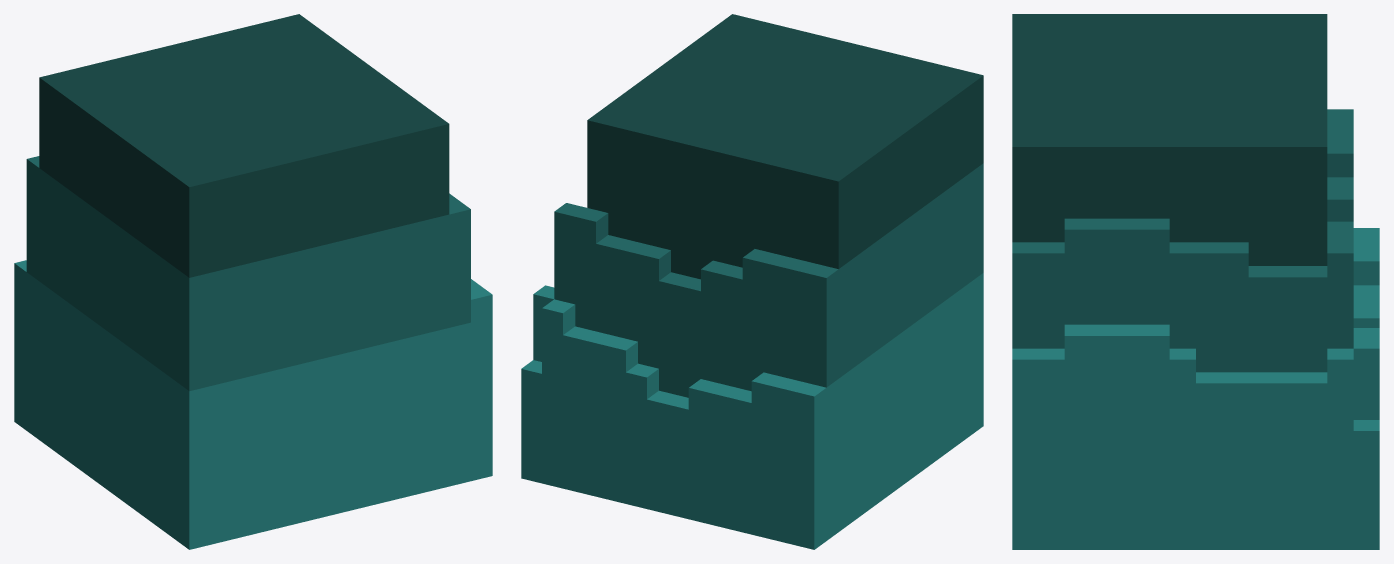
Rendered from WinterGrass-13.obj.
3 renders of one model, left to right at view 1: azimuth 30°, elevation 25°; view 2: azimuth 150°, elevation 25°; view 3: azimuth 270°, elevation 25°, orthographic. The views are drawn at different scales.
Bounding box in the file's own units: 1.4 × 1.6 × 1.4.
1 material, 1 textured.
